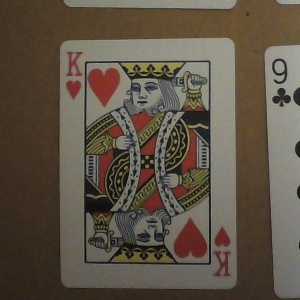card: (60, 36, 239, 289)
